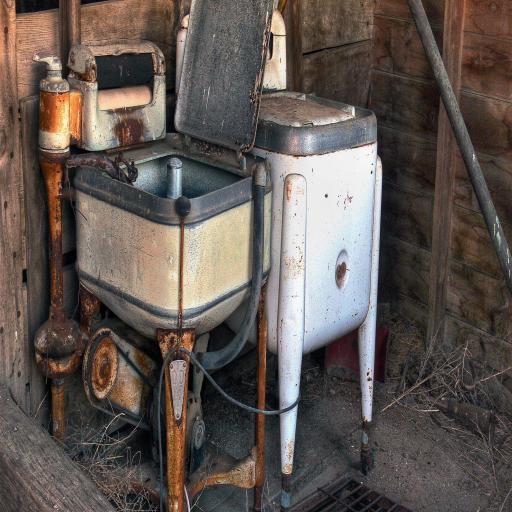segmentation: (34, 161, 87, 439), (158, 220, 195, 512), (254, 91, 376, 156), (82, 325, 160, 426), (39, 78, 70, 150), (92, 337, 117, 397), (66, 153, 118, 179), (257, 284, 267, 409), (79, 285, 100, 336), (254, 414, 264, 510), (112, 152, 138, 183), (115, 118, 143, 146), (336, 262, 346, 278)
